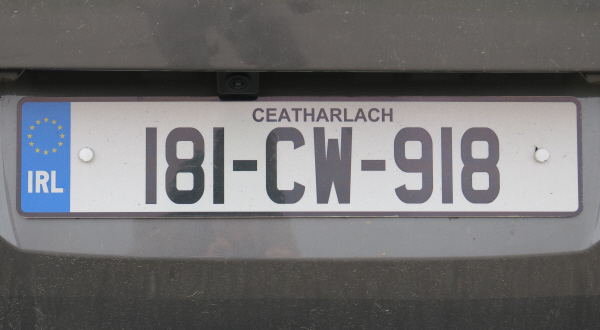license_plate: (15, 96, 583, 218)
